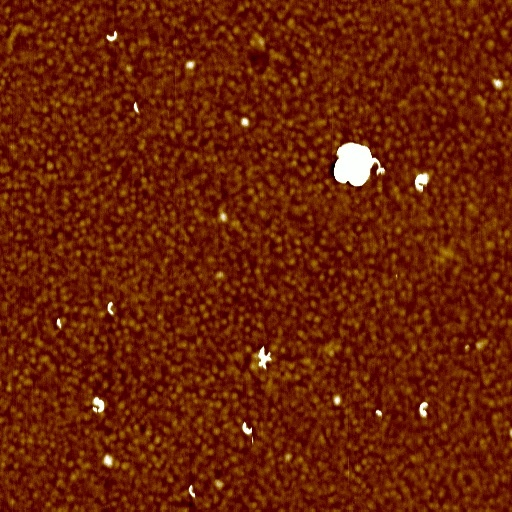-1: (327, 135, 388, 188), (413, 169, 432, 193), (185, 57, 198, 71), (332, 393, 345, 406), (238, 116, 252, 127), (102, 456, 114, 466), (375, 409, 385, 418)
1/4: (188, 481, 200, 499), (131, 99, 143, 115), (106, 299, 116, 316), (55, 316, 64, 329)
2/4: (417, 398, 435, 420), (104, 27, 121, 44), (256, 346, 274, 358), (241, 421, 256, 435), (258, 358, 276, 369)
3/4: (89, 395, 107, 414)
